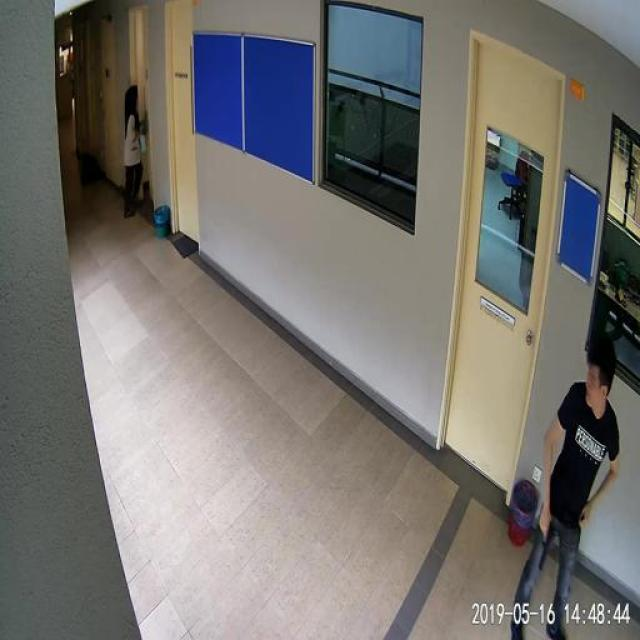Gun: (526, 507, 562, 582)
